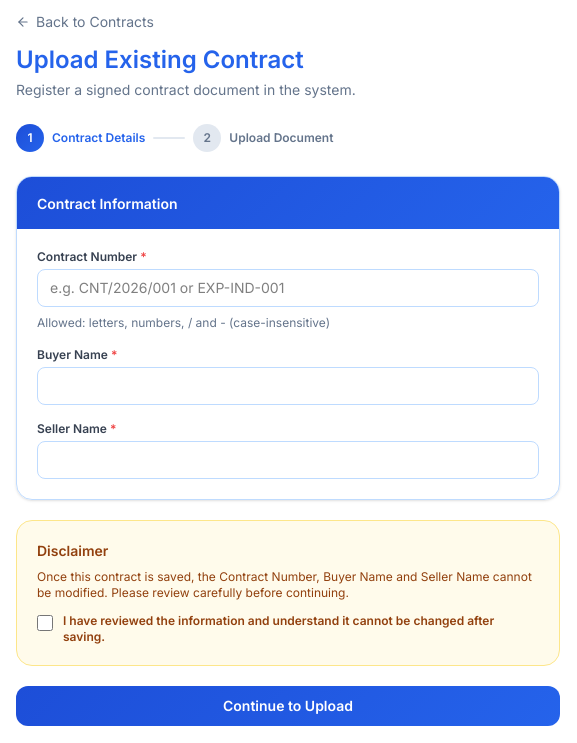
Scenario: ContractUploadPage › moves to step 2 after submitting valid contract details
Type "CNT/2024/001" into the field named "contractNumber" at (288, 288), box top-left (37, 269), bottom-right (539, 307)
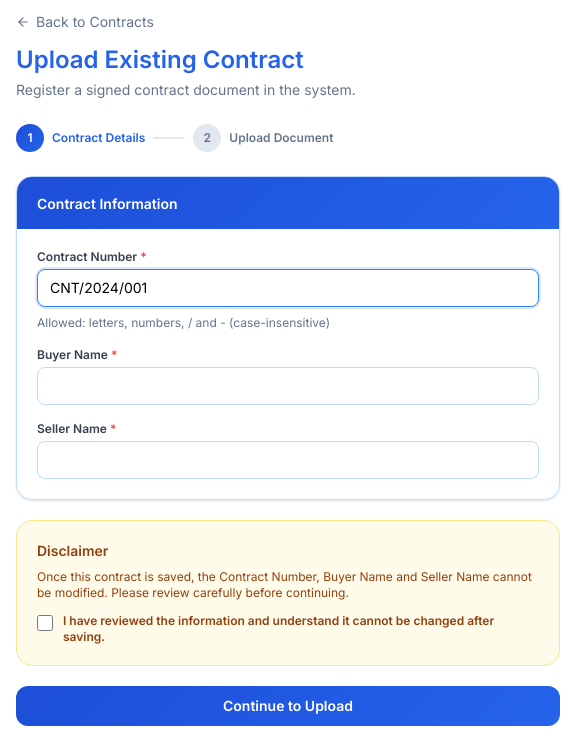
Type "Acme Buyer" into the 2nd field named "buyerName" at (288, 386), box top-left (37, 367), bottom-right (539, 405)
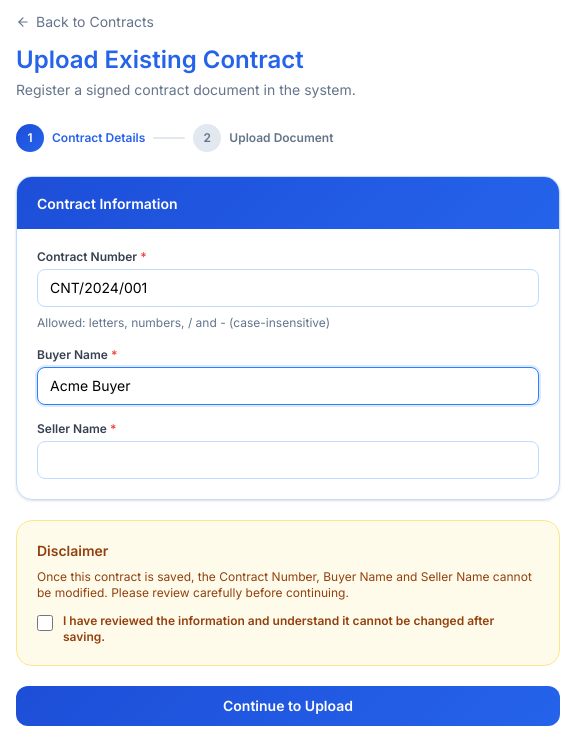
Type "Acme Seller" into the 3rd field named "sellerName" at (288, 460), box top-left (37, 441), bottom-right (539, 479)
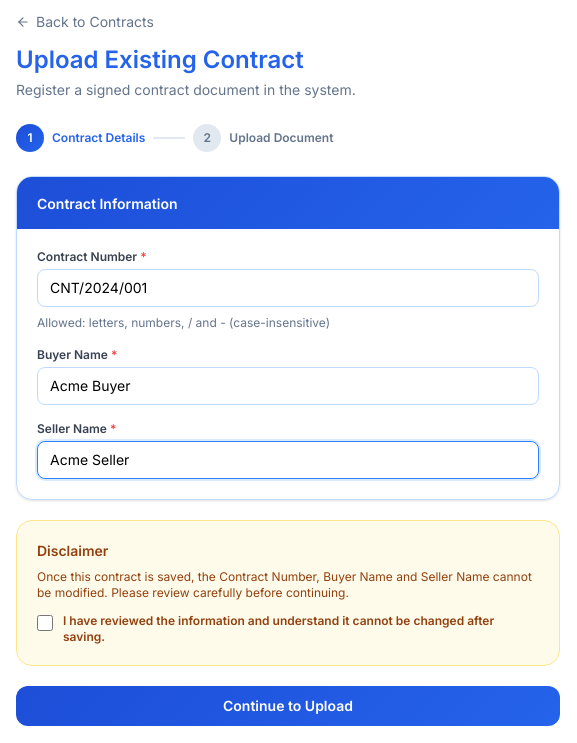
Click the checkbox at (45, 623), box top-left (37, 615), bottom-right (53, 631)
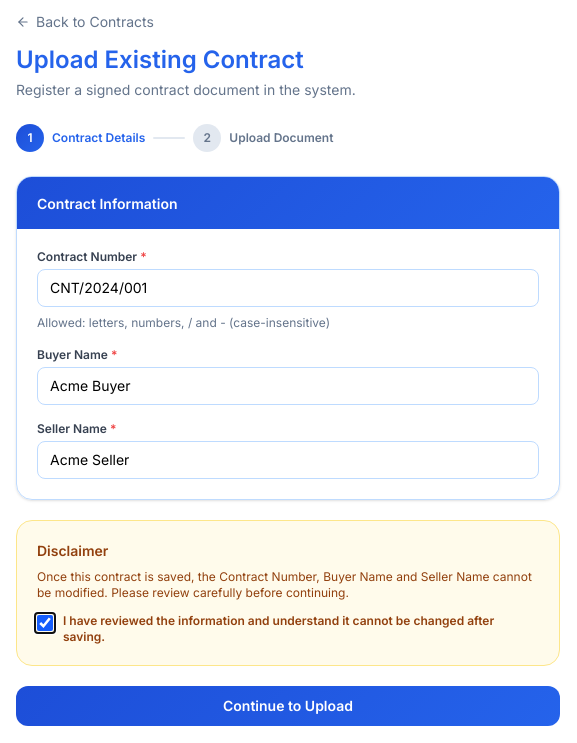
Click the button "Continue to Upload" at (288, 706), box top-left (16, 686), bottom-right (560, 726)
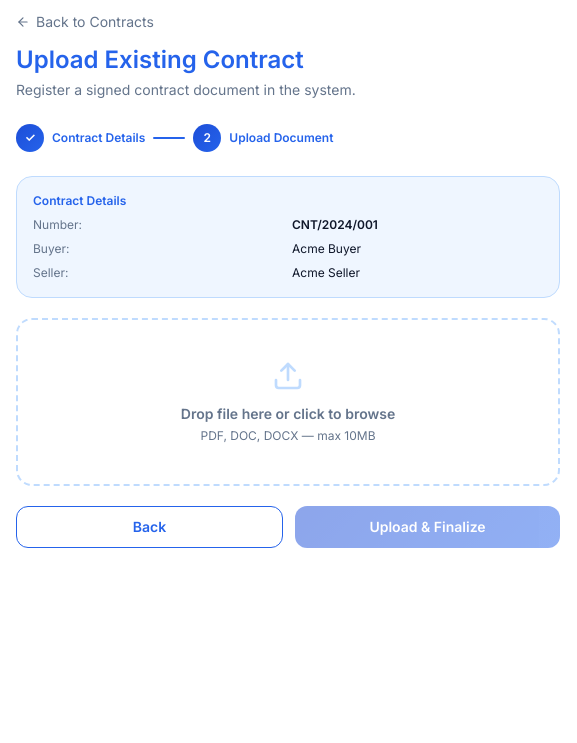
Expected: the text "CNT/2024/001" is shown, top-left (292, 217), bottom-right (378, 232)
Expected: the text "Acme Buyer" is shown, top-left (292, 241), bottom-right (361, 256)
Expected: the text "Acme Seller" is shown, top-left (292, 265), bottom-right (360, 280)
